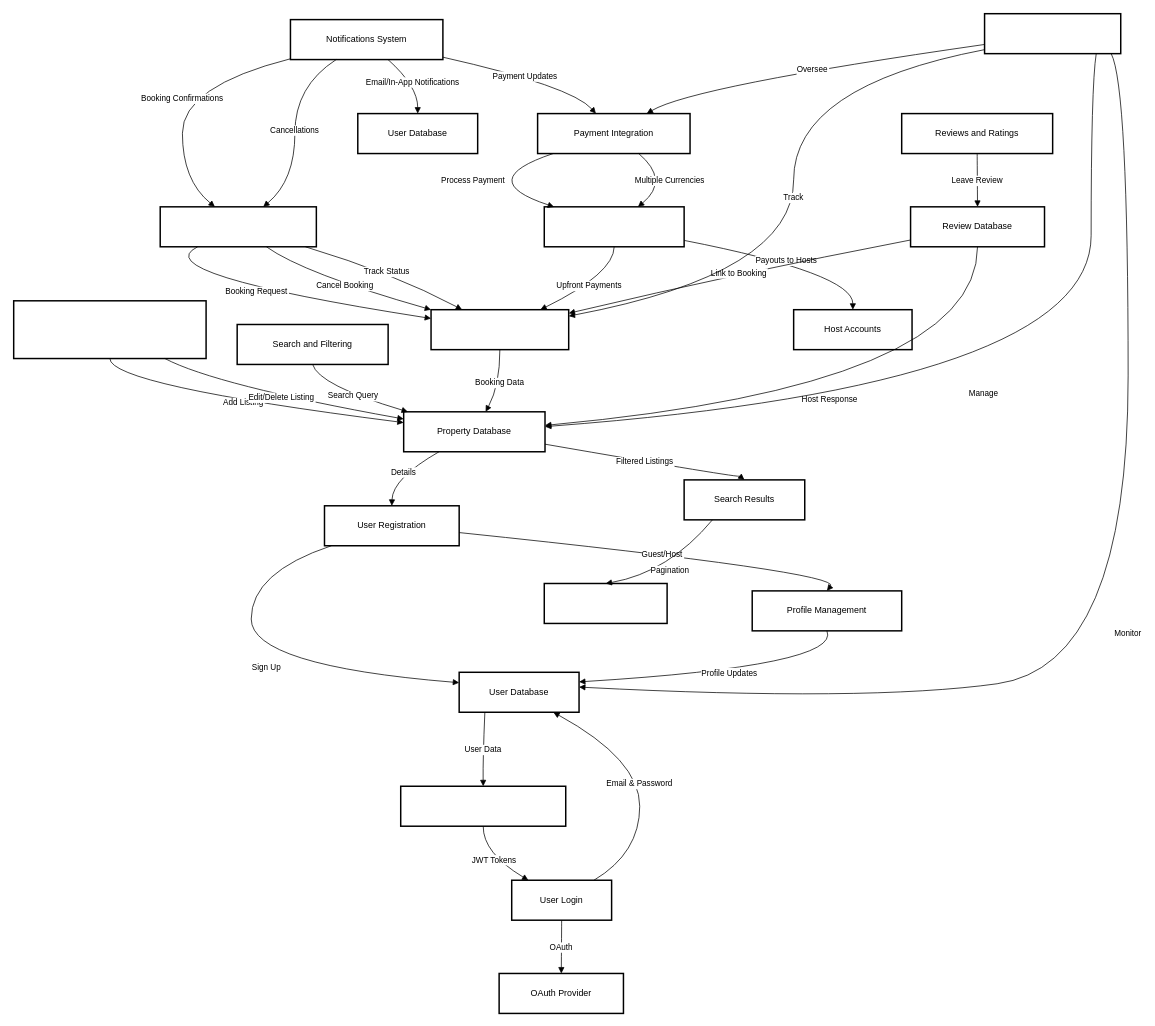
Some shapes in this 1155 by 1026 pixel diagram are drawn without their labels. The shapes that lost their labels are listed below. From the top down, each one's centre as x and y in pixels, then its label:
pixel 1052 33: Admin Dashboard
pixel 238 226: Booking Management
pixel 613 226: Payment Gateway
pixel 109 329: Property Listings Management
pixel 499 329: Booking Database
pixel 605 603: Display Results
pixel 483 806: Authentication Service
